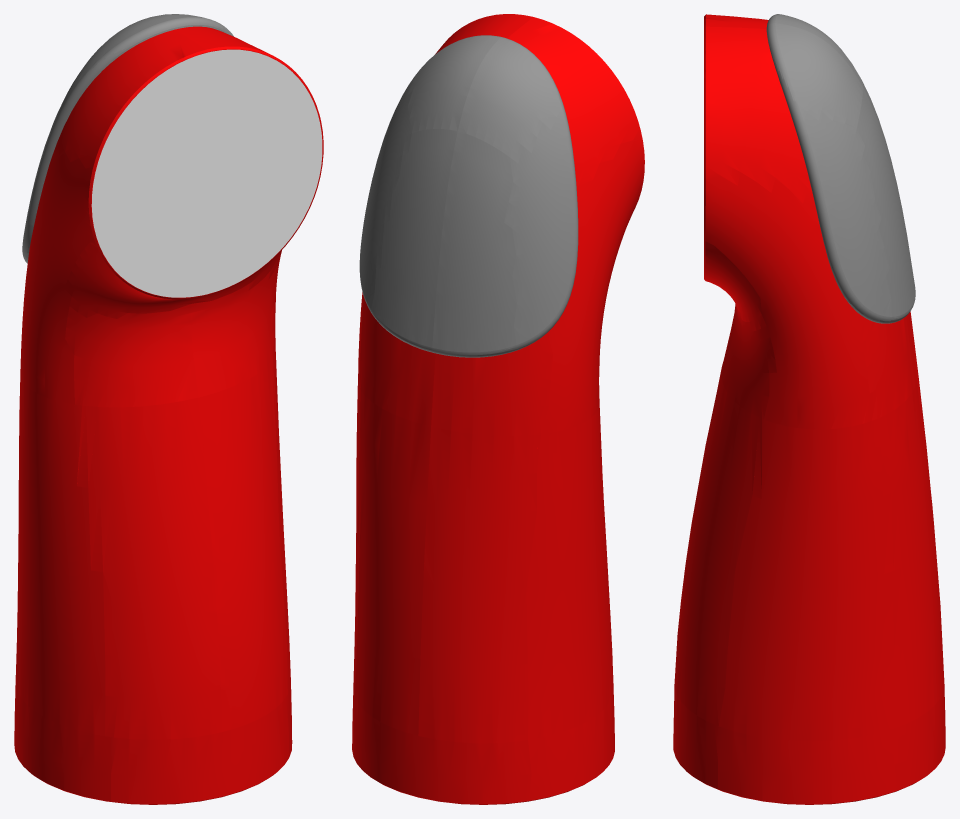
The picture shows the model from 3 angles, left to right: view 1: azimuth 30°, elevation 25°; view 2: azimuth 150°, elevation 25°; view 3: azimuth 270°, elevation 25°; orthographic projection. The views are drawn at different scales.
Parts seen in each view (by area): view 1: _3DGeom_29, _3DGeom_31, _3DGeom_30; view 2: _3DGeom_29, _3DGeom_30; view 3: _3DGeom_29, _3DGeom_30.
Boxes of the visible parts, x1,y1,x2,y2 form: _3DGeom_29: (14,26,323,804); _3DGeom_31: (91,49,322,297); _3DGeom_30: (22,14,233,263); _3DGeom_29: (352,14,644,804); _3DGeom_30: (359,35,578,357); _3DGeom_29: (673,14,945,804); _3DGeom_30: (766,14,915,323).
Size of the model in its own units: 0.1065 by 0.1065 by 0.3125.
